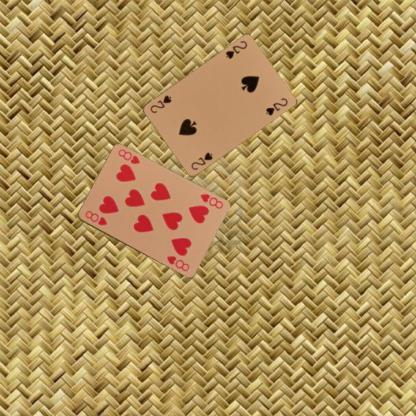2s: (188, 150, 214, 172), (223, 38, 248, 60)
8h: (82, 208, 108, 227), (197, 192, 224, 210)
